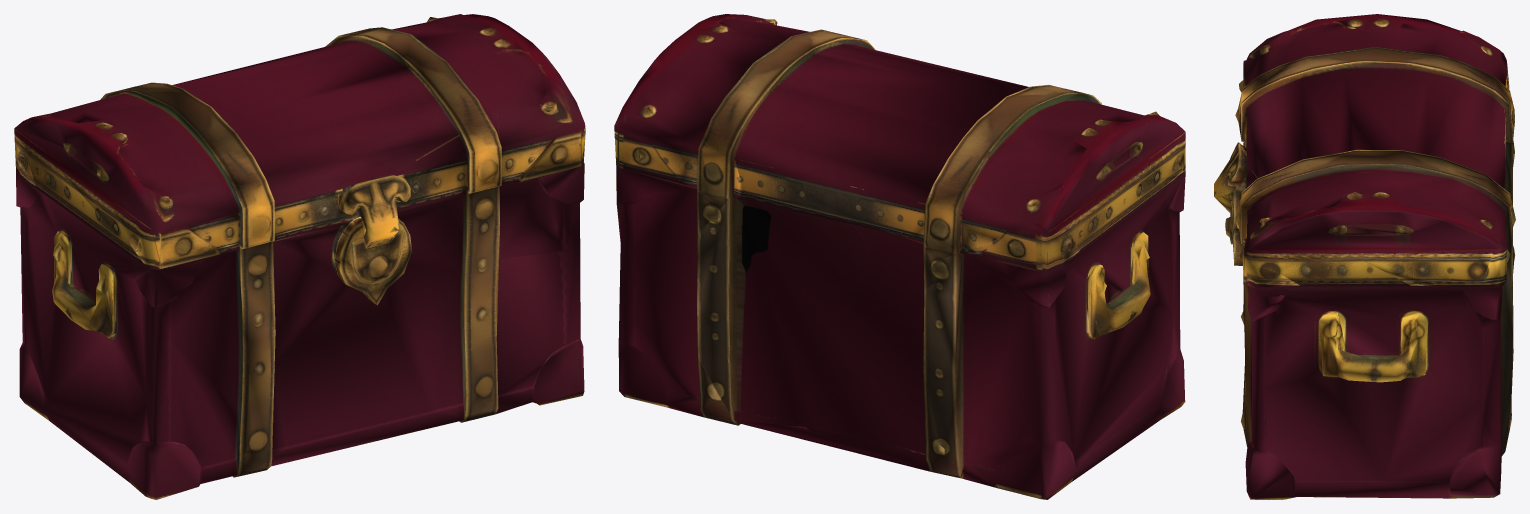
The model's file is 11_prop_trunk.fbx.
3 views of the same model, side by side, from view 1: azimuth 30°, elevation 25°; view 2: azimuth 150°, elevation 25°; view 3: azimuth 270°, elevation 25° (orthographic). The views are drawn at different scales.
Parts seen in each view (by area): view 1: Mesh1.0; view 2: Mesh1.0; view 3: Mesh1.0.
Part boxes in pixels (left/top/right/bottom): Mesh1.0: left=14, top=14, right=585, bottom=499; Mesh1.0: left=614, top=14, right=1185, bottom=499; Mesh1.0: left=1214, top=14, right=1515, bottom=499.
Size of the model in its own units: 189 by 126 by 115.
Materials: 1 (1 with a texture image).
